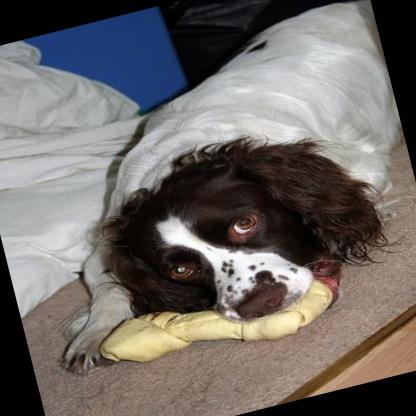English_springer: (0, 0, 416, 381)
